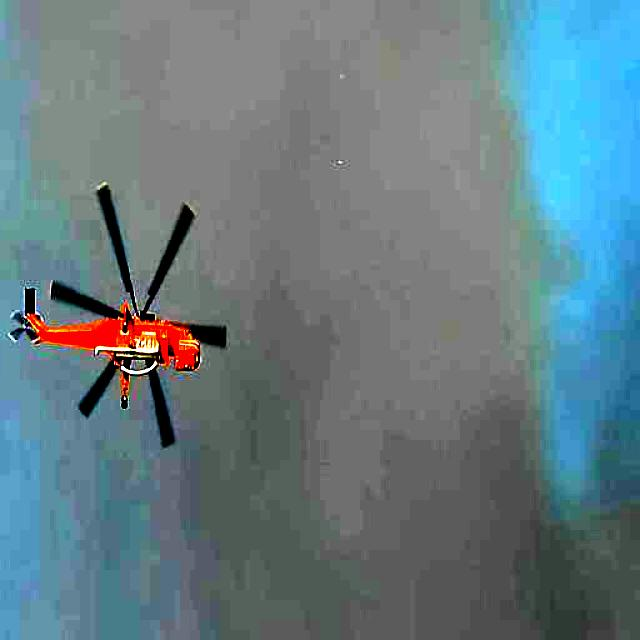drone: (15, 185, 249, 452)
